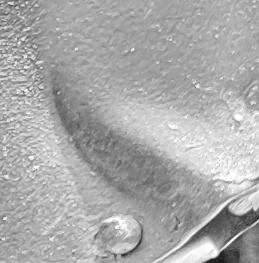dent: (0, 1, 259, 263)
